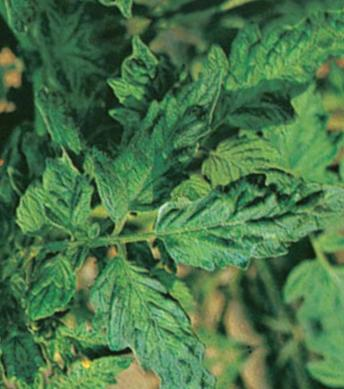Tomato leaf mosaic virus: (148, 132, 344, 291), (70, 68, 256, 232), (188, 0, 344, 142), (82, 240, 214, 389), (34, 140, 108, 251), (13, 241, 93, 320)
